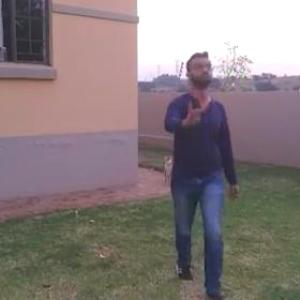takeoff-hand: (176, 97, 213, 135)
